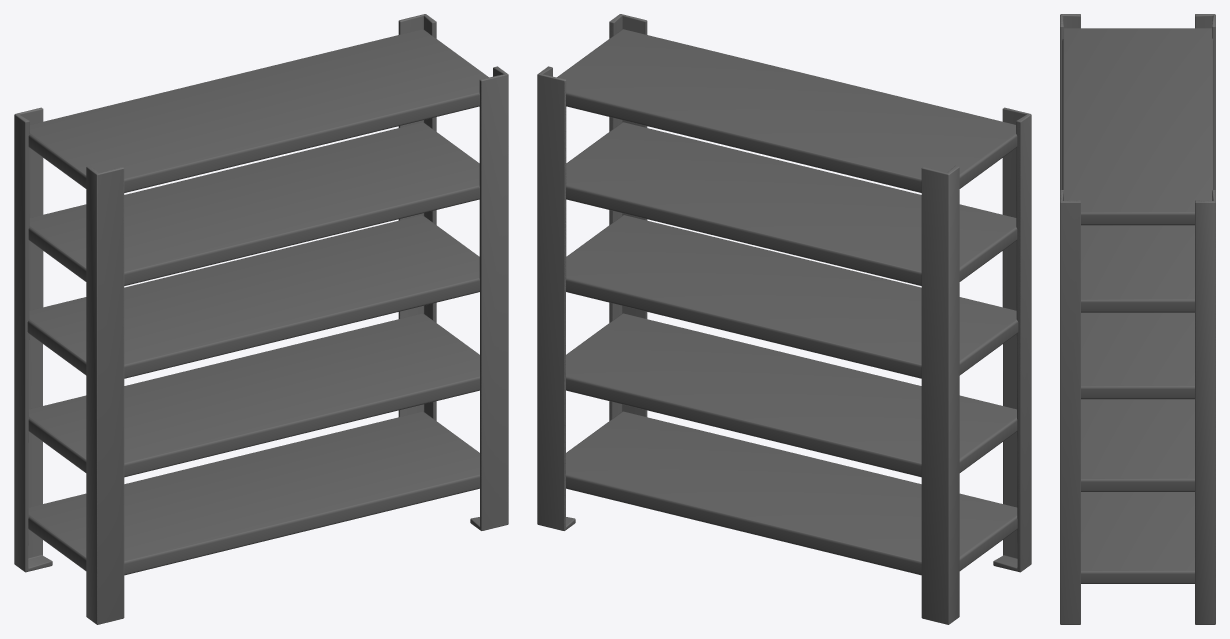
The model's file is SM_Env_MetalShelf.fbx.
3 renders of one model, left to right at view 1: azimuth 30°, elevation 25°; view 2: azimuth 150°, elevation 25°; view 3: azimuth 270°, elevation 25°, orthographic. The views are drawn at different scales.
Visible parts, largest first — view 1: Metal_Shelf; view 2: Metal_Shelf; view 3: Metal_Shelf.
Part boxes in pixels (<box>): Metal_Shelf: <box>14,14,508,624</box>; Metal_Shelf: <box>537,14,1031,624</box>; Metal_Shelf: <box>1060,14,1215,624</box>.
Size of the model in its own units: 201 by 210 by 70.
1 material, 1 textured.
